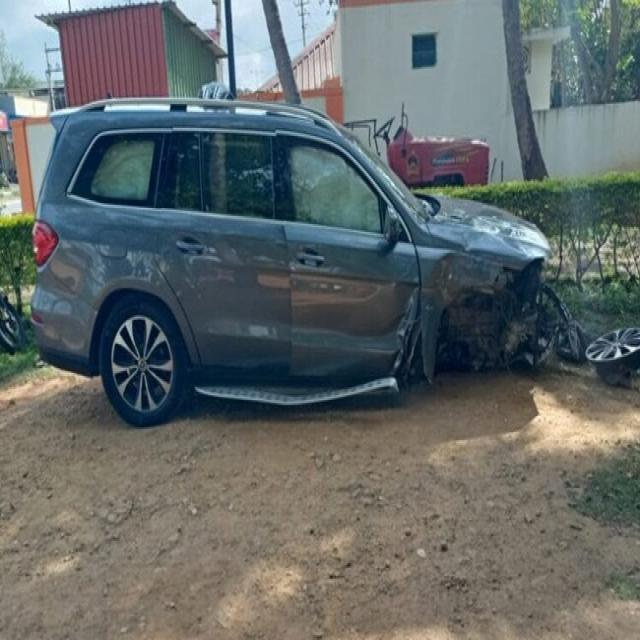accident: (31, 100, 580, 425)
